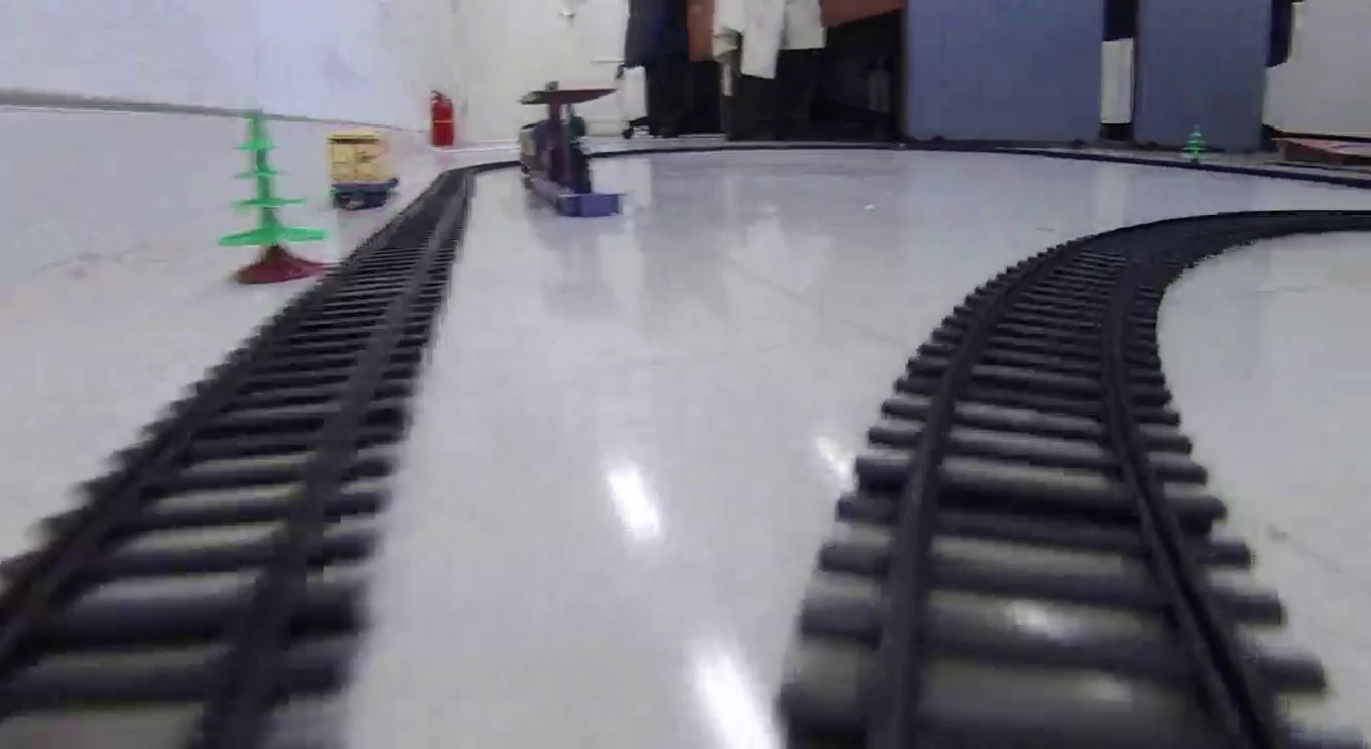tree: (214, 107, 336, 288)
